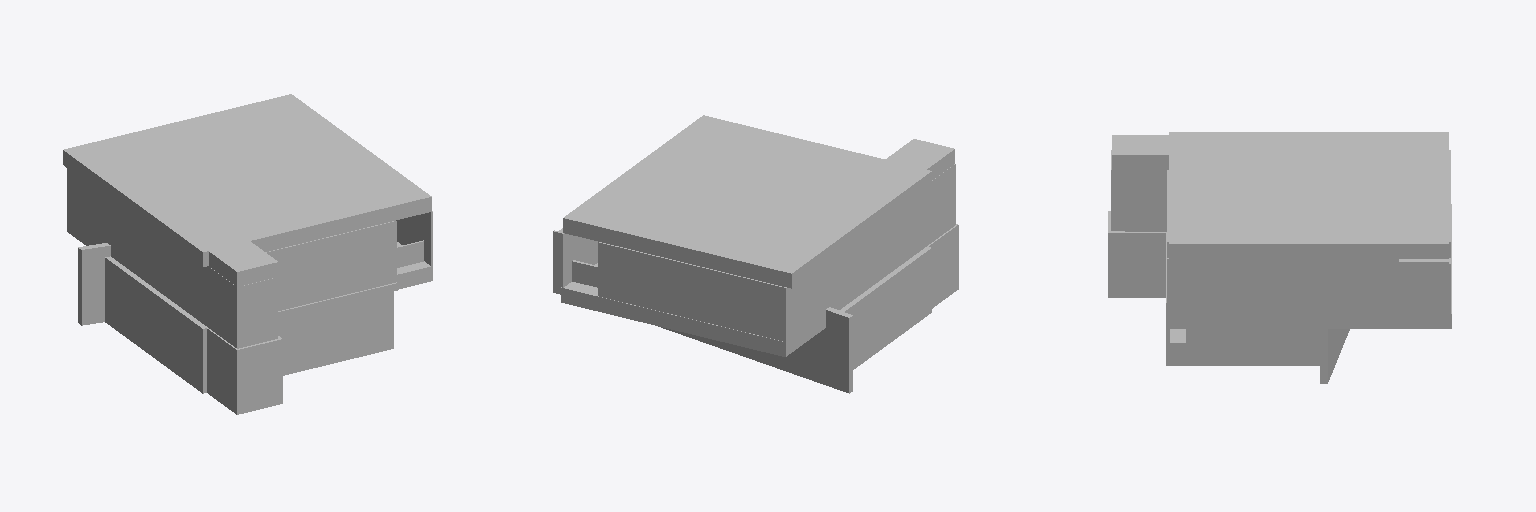
Rendered from lab.obj.
The picture shows the model from 3 angles: view 1: azimuth 30°, elevation 25°; view 2: azimuth 150°, elevation 25°; view 3: azimuth 270°, elevation 25°; orthographic projection.
Visible parts, largest first — view 1: Body26, Body23, Body31, Body27; view 2: Body26, Body23, Body27, Body29, Body31; view 3: Body26, Body23, Body29, Body31.
Boxes of the visible parts, <box> form: Body26: <box>63,94,432,348</box>; Body23: <box>78,256,397,411</box>; Body31: <box>78,319,393,414</box>; Body27: <box>67,217,432,281</box>; Body26: <box>553,115,955,341</box>; Body23: <box>683,224,958,390</box>; Body27: <box>561,263,825,349</box>; Body29: <box>561,295,825,356</box>; Body31: <box>658,287,958,393</box>; Body26: <box>1111,132,1450,324</box>; Body23: <box>1108,211,1348,380</box>; Body29: <box>1167,321,1451,328</box>; Body31: <box>1108,295,1349,383</box>.
Bounding box in the file's own units: 18.1 × 9.42 × 20.71.